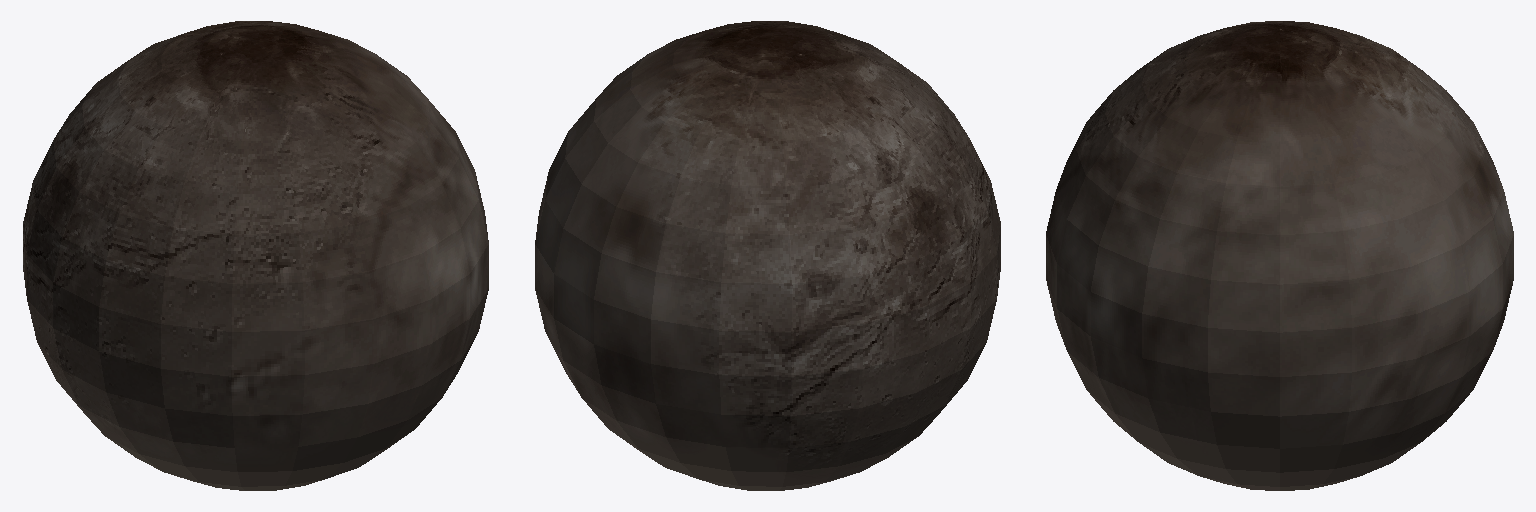
The picture shows the model from 3 angles: view 1: azimuth 30°, elevation 25°; view 2: azimuth 150°, elevation 25°; view 3: azimuth 270°, elevation 25°; orthographic projection.
Size of the model in its own units: 1.99 by 2 by 1.99.
Materials: 1 (1 with a texture image).